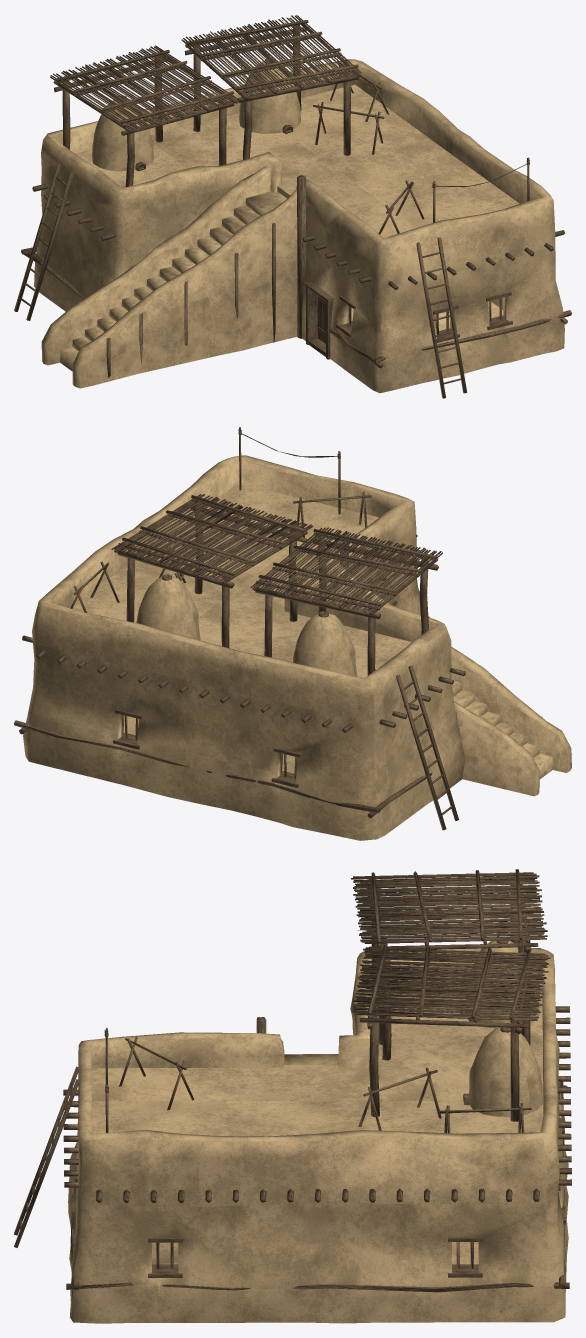
File: adb_house_3.glb
3 views of the same model, one above another, from view 1: azimuth 30°, elevation 25°; view 2: azimuth 150°, elevation 25°; view 3: azimuth 270°, elevation 25° (orthographic). The views are drawn at different scales.
Parts seen in each view (by area): view 1: adb_house_3; view 2: adb_house_3; view 3: adb_house_3.
Part boxes in pixels (bbox=[...]): adb_house_3: bbox=[14, 15, 571, 398]; adb_house_3: bbox=[14, 427, 571, 840]; adb_house_3: bbox=[14, 869, 571, 1323].
Bounding box in the file's own units: 7.22 × 3.56 × 6.88.
3 materials, 3 textured.
